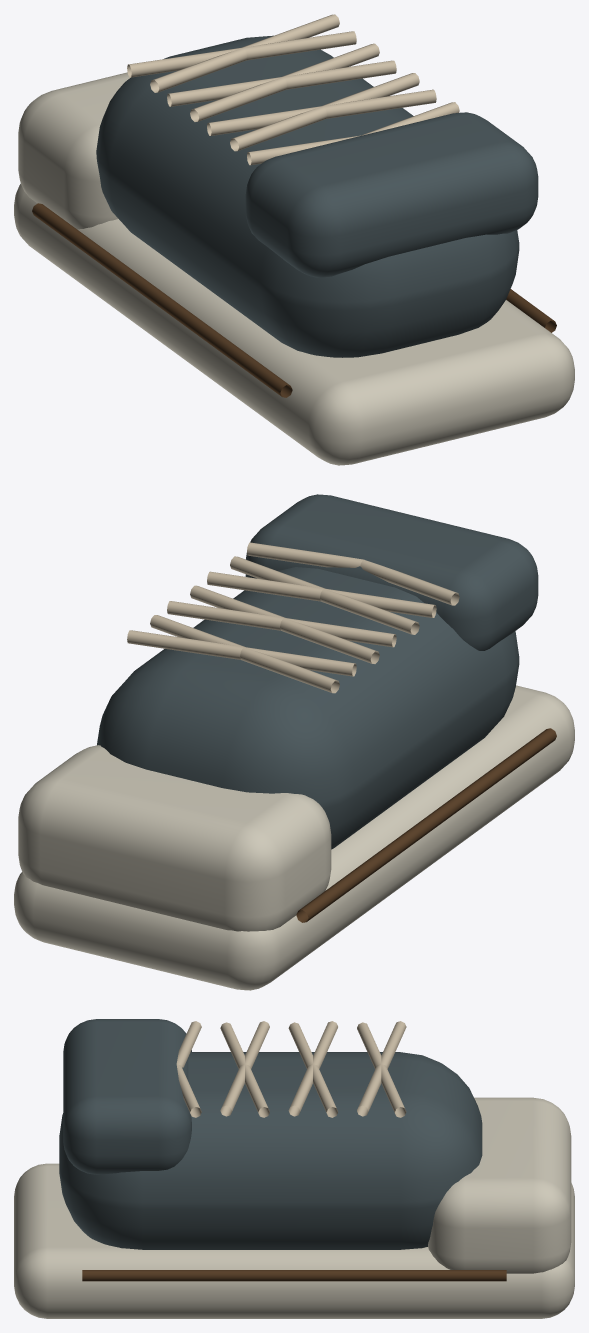
The model's file is sneaker.glb.
3 views of the same model, one above another, from view 1: azimuth 30°, elevation 25°; view 2: azimuth 150°, elevation 25°; view 3: azimuth 270°, elevation 25° (orthographic). The views are drawn at different scales.
Parts seen in each view (by area): view 1: Canvas upper, Cushioned sole, Padded heel collar, Rubber toe, Sole welt, Crossed cotton lace, Crossed cotton lace.002, Crossed cotton lace.004, Crossed cotton lace.005, Crossed cotton lace.001, Crossed cotton lace.003, Crossed cotton lace.006 (+2 smaller); view 2: Canvas upper, Rubber toe, Cushioned sole, Padded heel collar, Sole welt, Crossed cotton lace.005, Crossed cotton lace.003, Crossed cotton lace.001, Crossed cotton lace, Crossed cotton lace.004, Crossed cotton lace.002, Crossed cotton lace.007 (+1 smaller); view 3: Canvas upper, Cushioned sole, Rubber toe, Padded heel collar, Sole welt.001, Crossed cotton lace, Crossed cotton lace.001, Crossed cotton lace.003, Crossed cotton lace.004, Crossed cotton lace.005, Crossed cotton lace.002, Crossed cotton lace.007 (+1 smaller).
Boxes of the visible parts, x1,y1,x2,y2 form: Canvas upper: (96,35,519,357); Cushioned sole: (14,184,574,465); Padded heel collar: (245,112,538,277); Rubber toe: (18,72,130,229); Sole welt: (32,203,292,397); Crossed cotton lace: (127,31,356,77); Crossed cotton lace.002: (167,60,396,106); Crossed cotton lace.004: (207,89,436,135); Crossed cotton lace.005: (230,73,419,151); Crossed cotton lace.001: (150,14,339,92); Crossed cotton lace.003: (190,43,379,121); Crossed cotton lace.006: (247,135,362,165); Canvas upper: (97,567,519,849); Rubber toe: (18,745,331,931); Cushioned sole: (14,685,574,990); Padded heel collar: (245,494,538,650); Sole welt: (296,728,556,922); Crossed cotton lace.005: (207,571,436,617); Crossed cotton lace.003: (167,601,396,647); Crossed cotton lace.001: (127,630,356,676); Crossed cotton lace: (150,615,339,693); Crossed cotton lace.004: (230,556,419,634); Crossed cotton lace.002: (190,585,379,663); Crossed cotton lace.007: (247,542,363,567); Canvas upper: (59,1052,482,1249); Cushioned sole: (14,1163,574,1318); Rubber toe: (428,1097,571,1273); Padded heel collar: (63,1019,191,1174); Sole welt.001: (82,1270,506,1281); Crossed cotton lace: (357,1021,406,1116); Crossed cotton lace.001: (357,1022,406,1117); Crossed cotton lace.003: (288,1022,337,1117); Crossed cotton lace.004: (220,1021,269,1116); Crossed cotton lace.005: (220,1022,269,1117); Crossed cotton lace.002: (288,1021,337,1116); Crossed cotton lace.007: (176,1064,201,1117).
Bounding box in the file's own units: 0.18 × 0.1575 × 0.37.
